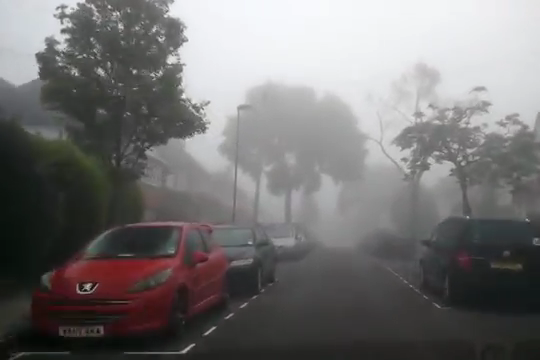car: (25, 218, 231, 346), (417, 212, 539, 309), (184, 222, 279, 296), (363, 224, 416, 263), (257, 222, 306, 259)
